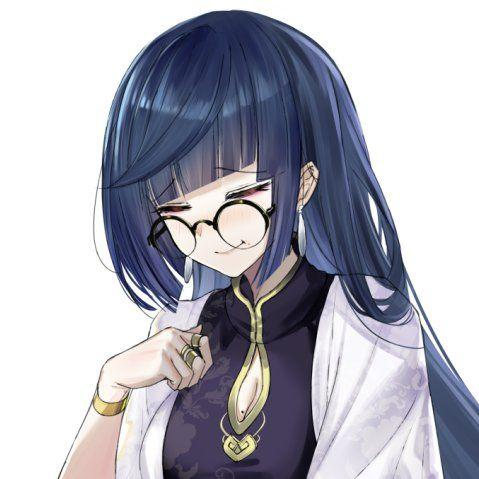夜兰: (51, 10, 447, 479)
